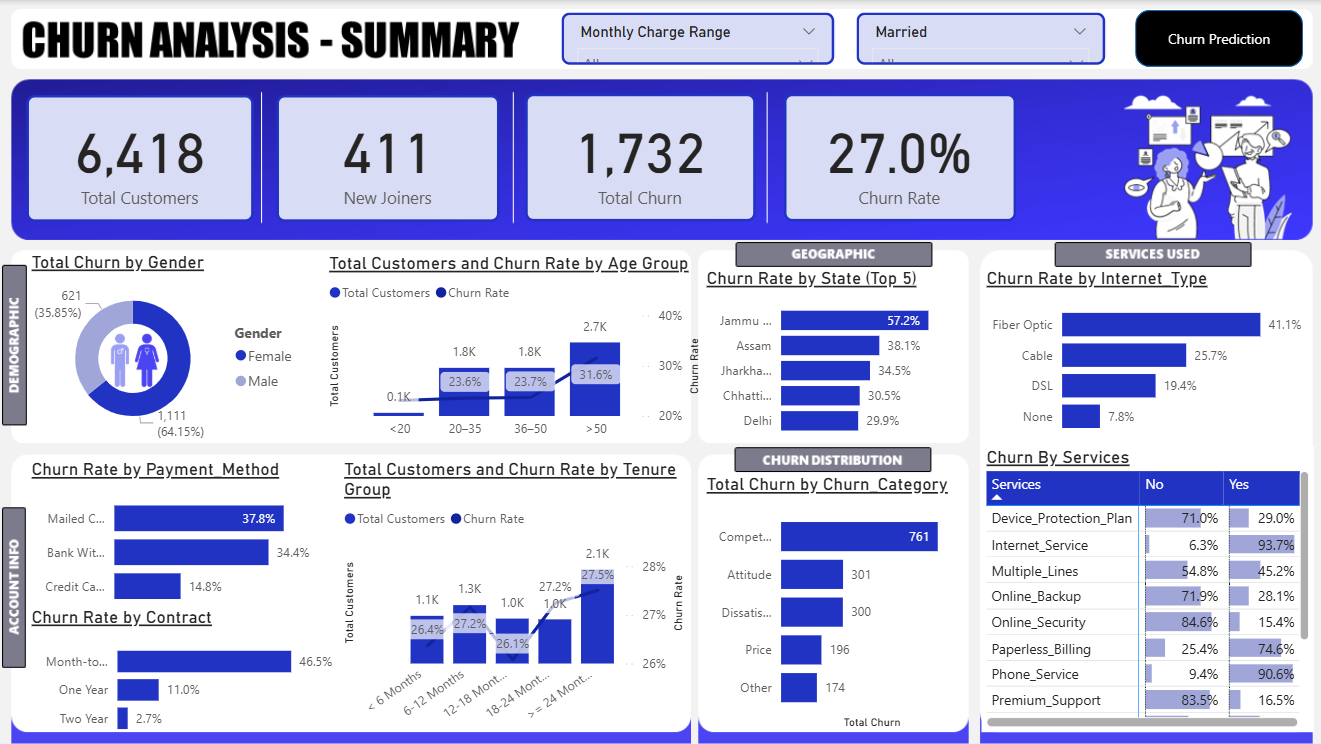

The dashboard page shown, as its layout file describes it:
{"tool":"powerbi","page":{"name":"Summary","canvas":[1280,720],"ordinal":0},"visuals":[{"type":"card","fields":{"Values":["tb_measures.Total Customers"]},"box":[26.1,91.9,219.6,122.1],"z":0},{"type":"card","fields":{"Values":["tb_measures.New Joiners"]},"box":[267.6,91.9,215.4,122.1],"z":1000},{"type":"card","fields":{"Values":["tb_measures.Total Churn"]},"box":[507.7,90.6,222.3,123.5],"z":2000},{"type":"card","fields":{"Values":["tb_measures.Churn Rate"]},"box":[757.5,90.6,223.7,123.5],"z":3000},{"type":"donutChart","fields":{"Category":["prod_Churn.Gender"],"Y":["tb_measures.Total Churn"]},"box":[26.1,242.9,271.7,188],"z":4000},{"type":"lineStackedColumnComboChart","fields":{"Category":["mapping_agegrp.Age Group"],"Y":["tb_measures.Total Customers"],"Y2":["tb_measures.Churn Rate"]},"box":[314.2,244.3,369.1,188],"z":5000},{"type":"clusteredBarChart","fields":{"Category":["prod_Churn.Payment_Method"],"Y":["tb_measures.Churn Rate"]},"box":[26.1,443.2,288.2,155.1],"z":6000},{"type":"clusteredBarChart","fields":{"Category":["prod_Churn.Contract"],"Y":["tb_measures.Churn Rate"]},"box":[26.1,584.6,301.9,135.8],"z":7000},{"type":"lineStackedColumnComboChart","fields":{"Category":["mapping_tenuregrp.Tenure Group"],"Y":["tb_measures.Total Customers"],"Y2":["tb_measures.Churn Rate"]},"box":[328,443.2,338.9,264.8],"z":8000},{"type":"barChart","title":"Churn Rate by State (Top 5)","fields":{"Category":["prod_Churn.State"],"Y":["tb_measures.Churn Rate"]},"box":[677.9,258,258,172.9],"z":9000},{"type":"barChart","fields":{"Category":["prod_Churn.Churn_Category"],"Y":["tb_measures.Total Churn"]},"box":[677.9,456.9,258,251.1],"z":10000},{"type":"barChart","fields":{"Category":["prod_Churn.Internet_Type"],"Y":["tb_measures.Churn Rate"]},"box":[948.2,258,321.1,172.9],"z":11000},{"type":"pivotTable","title":"Churn By Services","fields":{"Rows":["prod_Services.Services"],"Columns":["prod_Services.Status"],"Values":["Sum(prod_Services.Churn Status)"]},"box":[948.2,430.9,321.1,275.8],"z":12000},{"type":"slicer","fields":{"Values":["prod_Churn.Monthly Charge Status"]},"box":[543.4,12.3,263.5,50.8],"z":13000},{"type":"slicer","fields":{"Values":["prod_Churn.Married"]},"box":[827.4,12.3,240.1,50.8],"z":14000},{"type":"image","box":[93.3,306,76.8,81],"z":15000},{"type":"shape","box":[1096.4,9.6,161.9,54.9],"z":16000}]}

Visuals, with their boxes in screenshot pixels (x1, y1, x2, y2), scaled from the page's 1280x720 canvas onto the 1321x744 screenshot:
card - tb_measures.Total Customers: (27, 95, 254, 221)
card - tb_measures.New Joiners: (276, 95, 498, 221)
card - tb_measures.Total Churn: (524, 94, 753, 221)
card - tb_measures.Churn Rate: (782, 94, 1013, 221)
donutChart - prod_Churn.Gender x tb_measures.Total Churn: (27, 251, 307, 445)
lineStackedColumnComboChart - mapping_agegrp.Age Group x tb_measures.Total Customers: (324, 252, 705, 447)
clusteredBarChart - prod_Churn.Payment_Method x tb_measures.Churn Rate: (27, 458, 324, 618)
clusteredBarChart - prod_Churn.Contract x tb_measures.Churn Rate: (27, 604, 339, 743)
lineStackedColumnComboChart - mapping_tenuregrp.Tenure Group x tb_measures.Total Customers: (339, 458, 688, 732)
"Churn Rate by State (Top 5)" barChart: (700, 267, 966, 445)
barChart - prod_Churn.Churn_Category x tb_measures.Total Churn: (700, 472, 966, 732)
barChart - prod_Churn.Internet_Type x tb_measures.Churn Rate: (979, 267, 1310, 445)
"Churn By Services" pivotTable: (979, 445, 1310, 730)
slicer - prod_Churn.Monthly Charge Status: (561, 13, 833, 65)
slicer - prod_Churn.Married: (854, 13, 1102, 65)
image: (96, 316, 176, 400)
shape: (1132, 10, 1299, 67)
